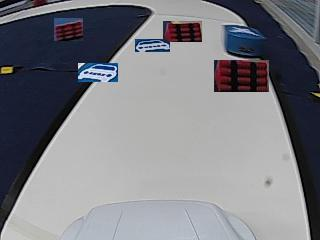prop: (224, 25, 265, 58)
